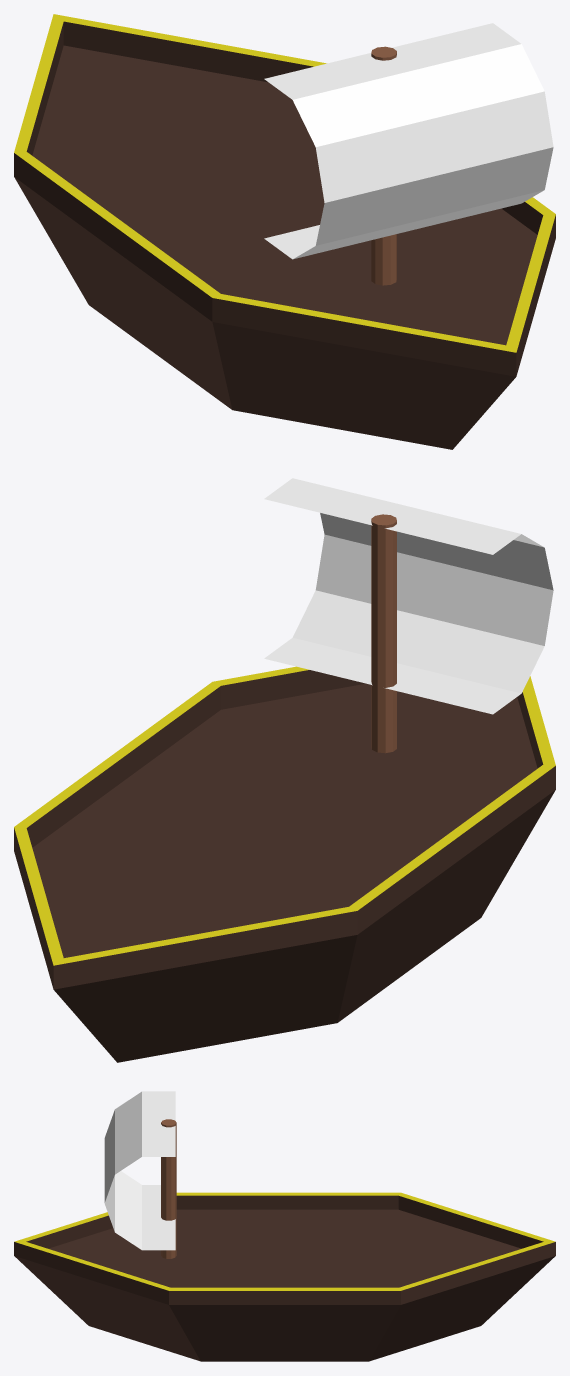
File: ship.glb
The picture shows the model from 3 angles, top to bottom: view 1: azimuth 30°, elevation 25°; view 2: azimuth 150°, elevation 25°; view 3: azimuth 270°, elevation 25°; orthographic projection. The views are drawn at different scales.
Parts seen in each view (by area): view 1: Cube, Cylinder.001, Cylinder; view 2: Cube, Cylinder.001, Cylinder; view 3: Cube, Cylinder.001, Cylinder.
Part boxes in pixels (<box>): Cube: <box>14,14,555,449</box>; Cylinder.001: <box>264,23,553,259</box>; Cylinder: <box>371,46,396,285</box>; Cube: <box>14,666,555,1062</box>; Cylinder.001: <box>264,478,553,714</box>; Cylinder: <box>371,514,396,753</box>; Cube: <box>14,1192,555,1361</box>; Cylinder.001: <box>104,1091,175,1250</box>; Cylinder: <box>161,1119,176,1258</box>.
Size of the model in its own units: 3 by 2.9 by 7.
